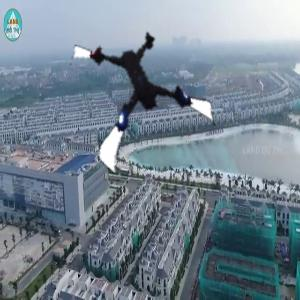drone: (77, 26, 218, 167)
